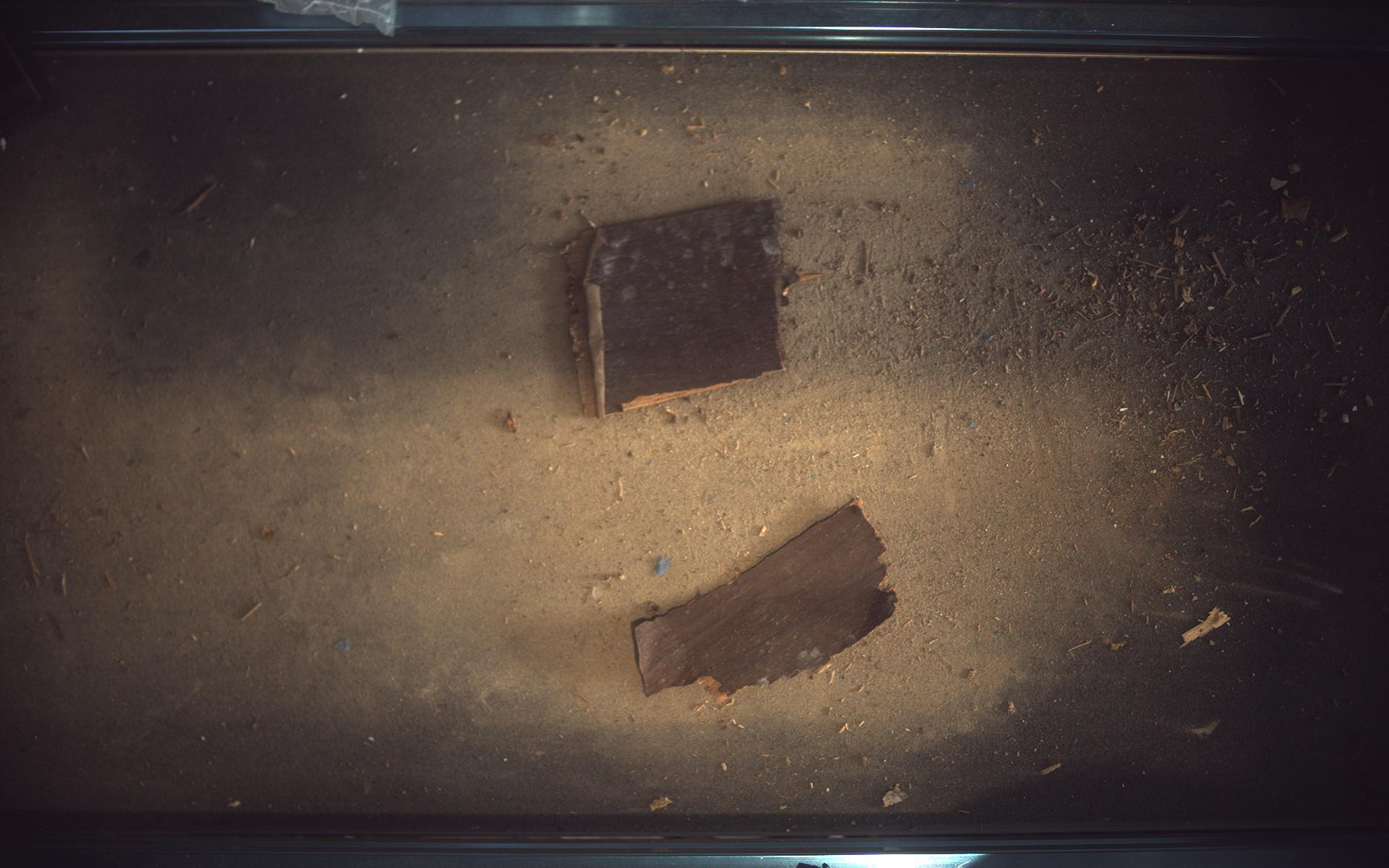wood: (633, 501, 899, 697), (564, 200, 785, 417)
